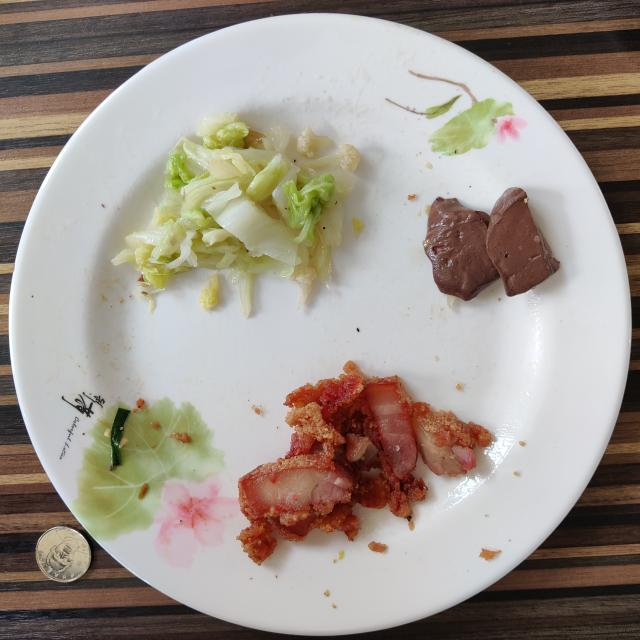cabbage: (112, 112, 360, 316), (199, 275, 219, 311)
coin: (36, 526, 91, 582)
pig blood curd: (424, 188, 559, 301)
red grilled pork: (238, 361, 491, 565)
